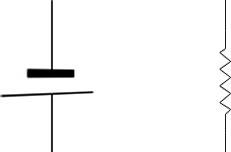resistor: (212, 39, 230, 114)
